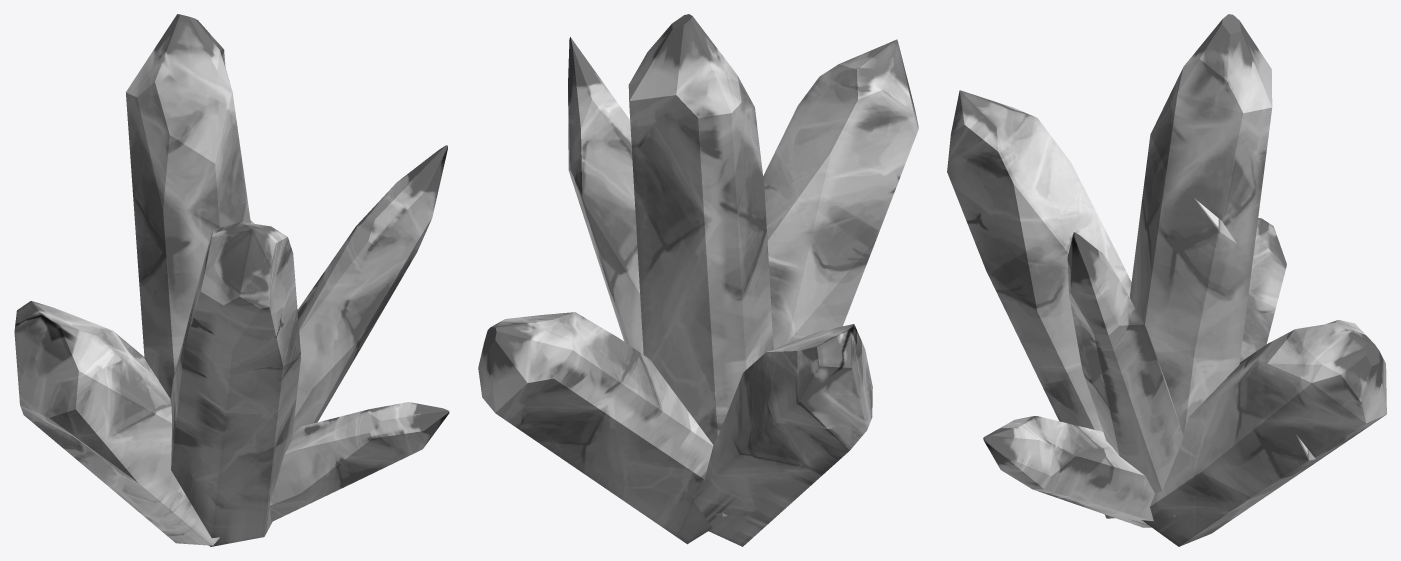
The model's file is Crystal09.fbx.
3 renders of one model, left to right at view 1: azimuth 30°, elevation 25°; view 2: azimuth 150°, elevation 25°; view 3: azimuth 270°, elevation 25°, orthographic. The views are drawn at different scales.
Visible parts, largest first — view 1: Crystal09; view 2: Crystal09; view 3: Crystal09.
Boxes of the visible parts, x1,y1,x2,y2 form: Crystal09: (14, 14, 449, 546); Crystal09: (478, 14, 918, 546); Crystal09: (947, 14, 1386, 546).
Size of the model in its own units: 285 by 390 by 302.
